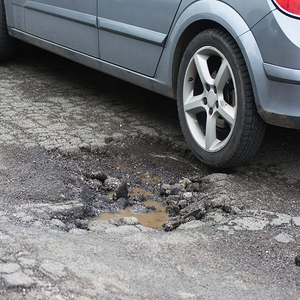pothole: (73, 145, 216, 239)
